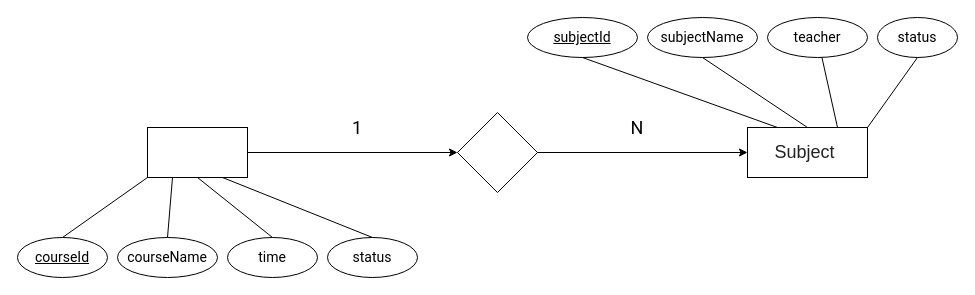
Some shapes in this 975 by 295 pixel diagram are drawn without their labels. The centre of each missing label's shape, as x and y in pixels:
"Course" belongs at point (197, 152).
"Có" belongs at point (497, 152).
